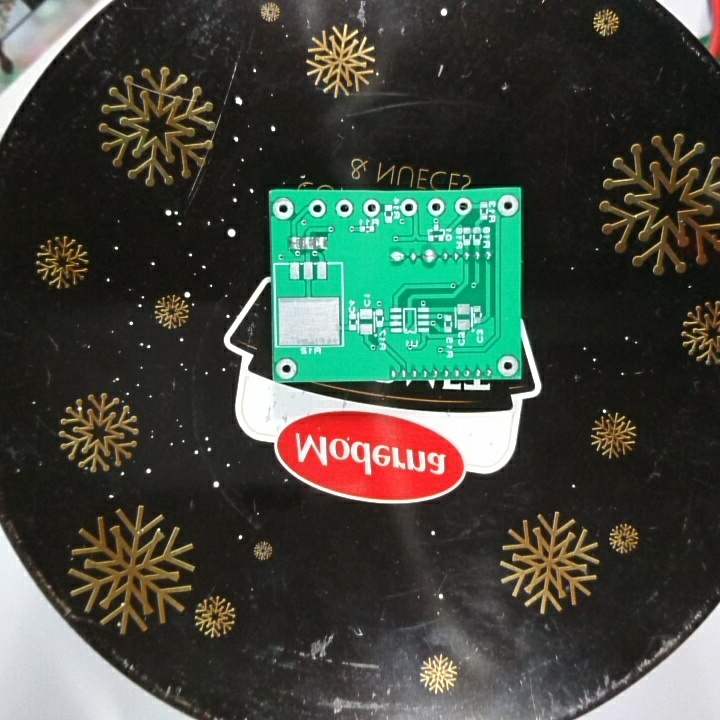F: (271, 195, 297, 222), (494, 353, 519, 377), (274, 356, 299, 380), (496, 193, 519, 219), (399, 197, 421, 219), (452, 196, 474, 218), (361, 197, 381, 220), (333, 198, 354, 219), (427, 197, 448, 218), (308, 198, 328, 220)
P: (418, 247, 439, 267), (388, 249, 408, 266)
